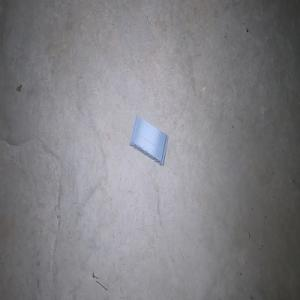PlasticPart: (128, 115, 168, 166)
